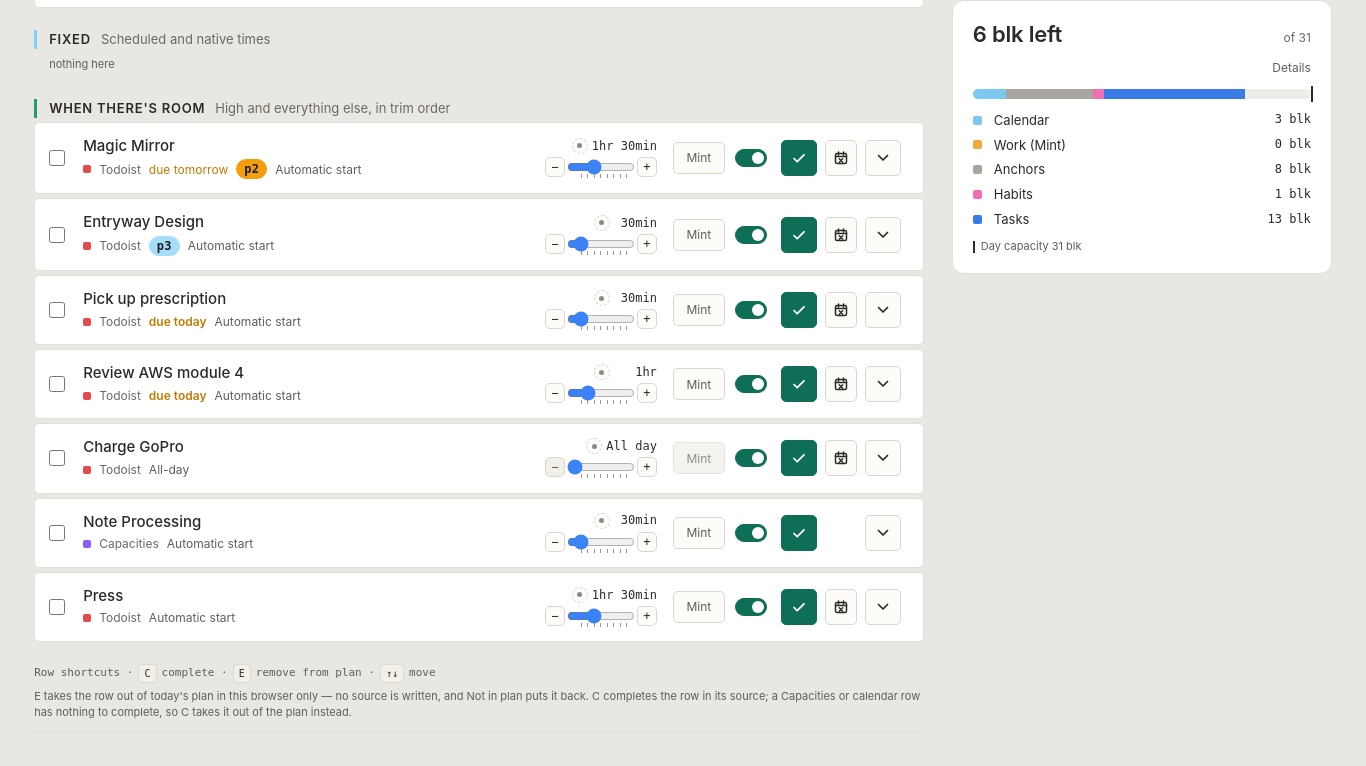
Test: expanded row panel › all-day round trip restores the duration and clears the pin
The image size is (1366, 766).
(page scrolled)
Click the 7th button named "Expand" at (883, 607), box [865,589,901,625]
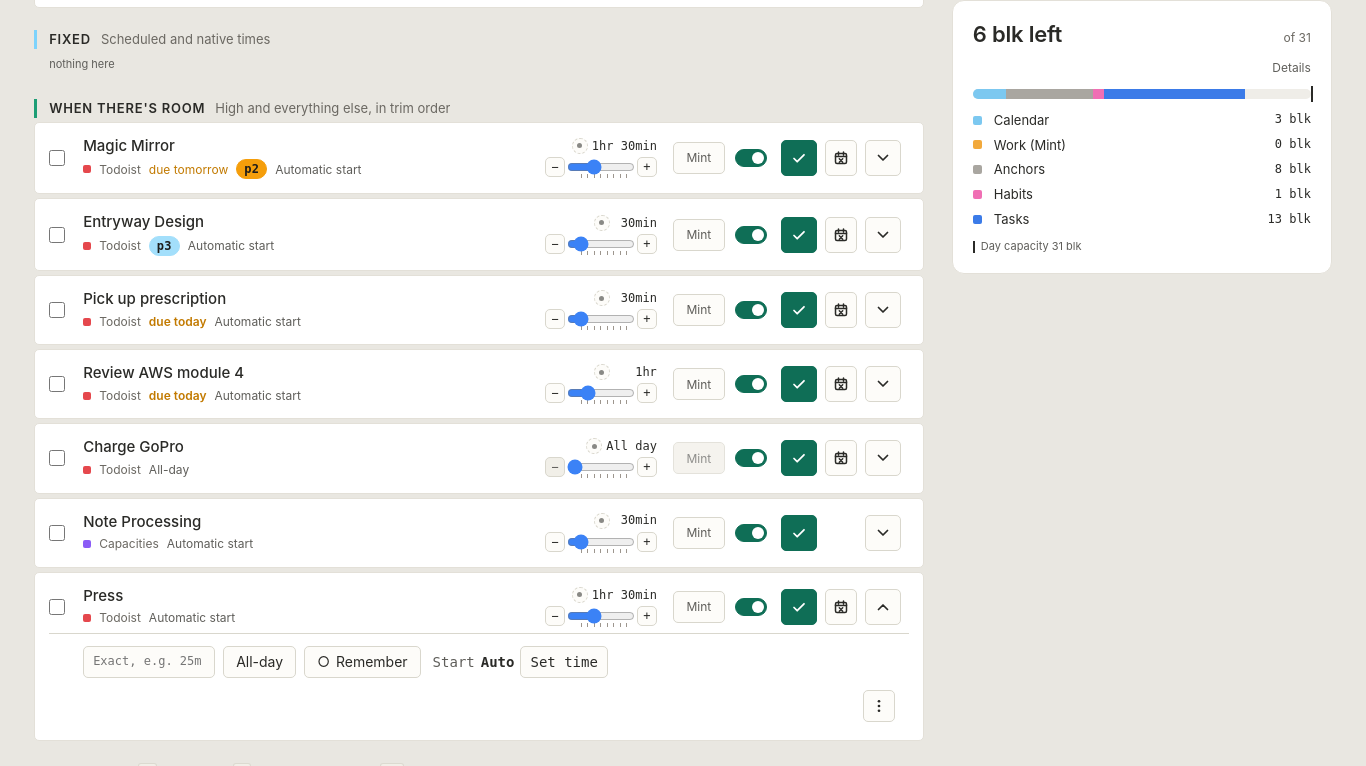
Click the button with class "trow__tog" at (260, 662), box [223,646,296,678]
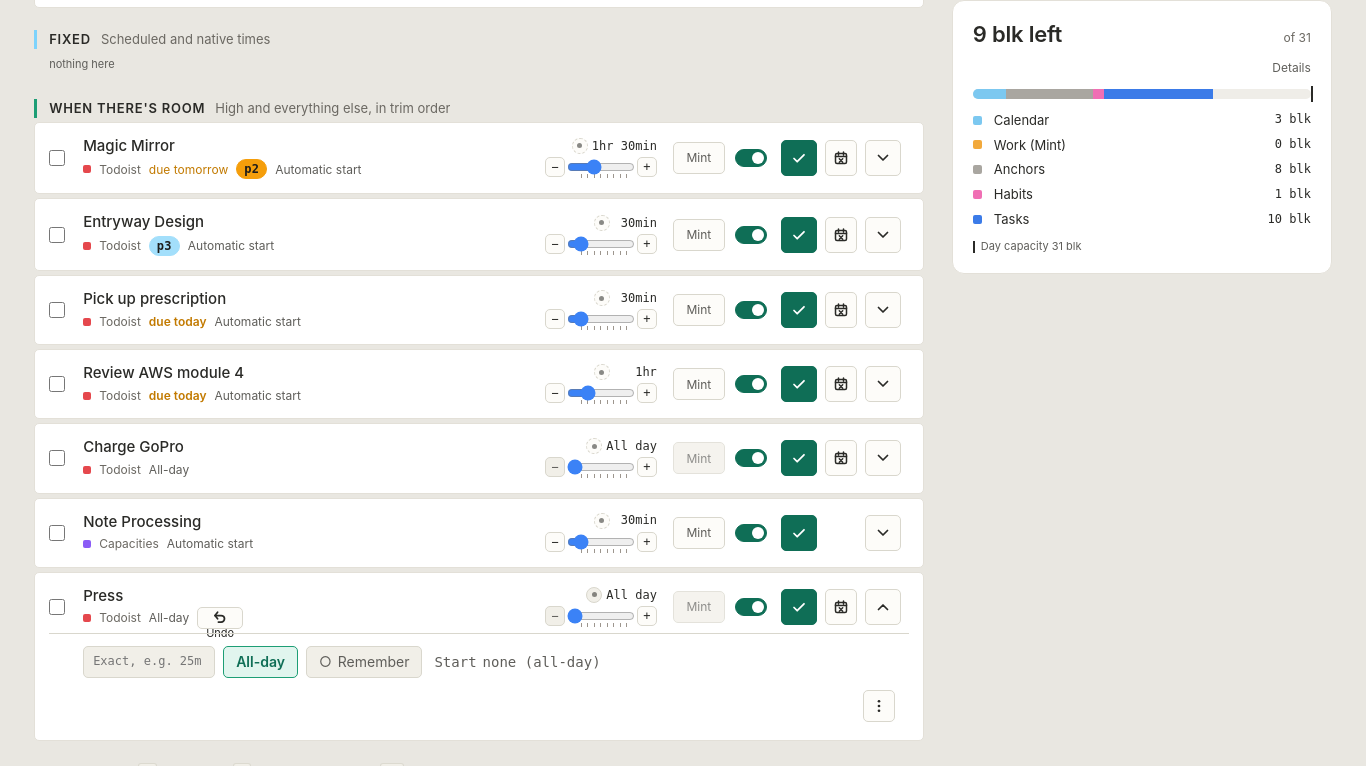
Expected: the button with class "trow__tog" is pressed
Click the button with class "trow__tog" at (260, 662), box [223,646,298,678]
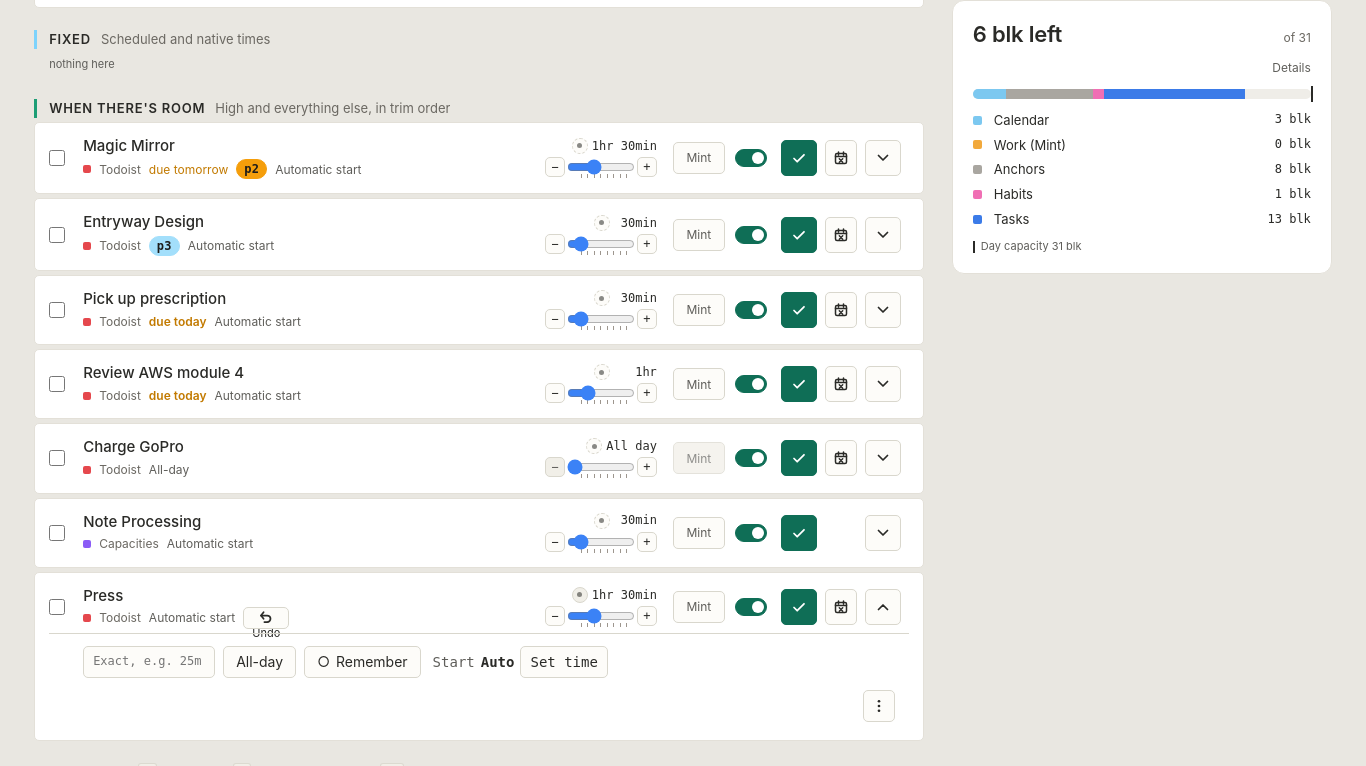
Expected: the element that starts with "Press" shows "Auto", [481,654,514,670]
